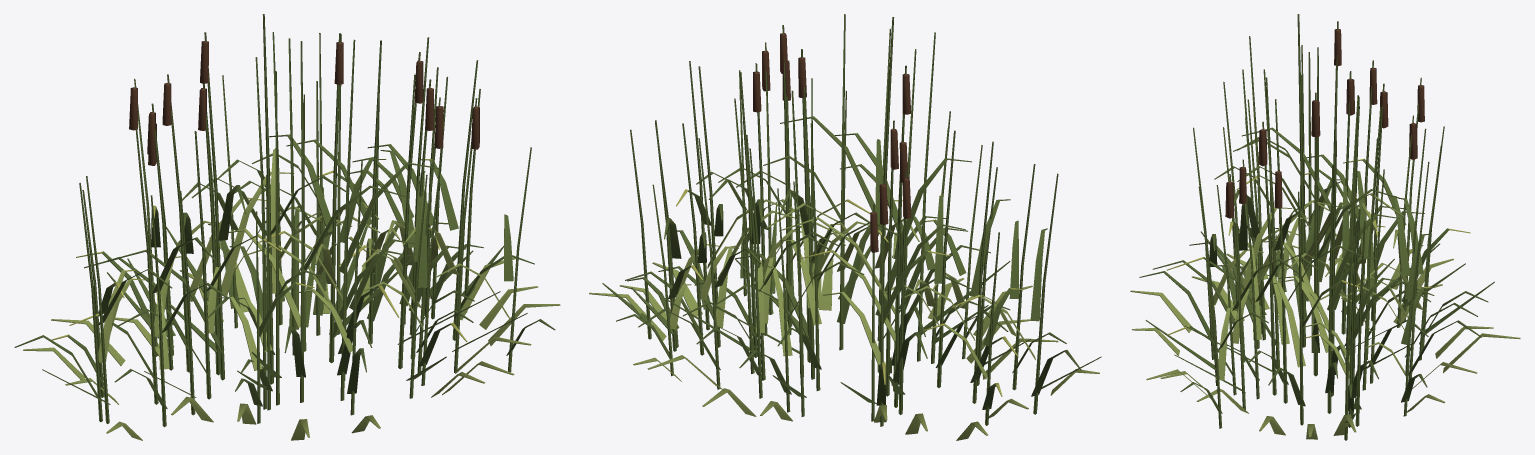
Rendered from foliage_reed_bed_a.glb.
3 renders of one model, left to right at view 1: azimuth 30°, elevation 25°; view 2: azimuth 150°, elevation 25°; view 3: azimuth 270°, elevation 25°, orthographic. The views are drawn at different scales.
Visible parts, largest first — view 1: foliage_reed_bed_a_LOD0_reeds, foliage_reed_bed_a_LOD1_reeds; view 2: foliage_reed_bed_a_LOD0_reeds, foliage_reed_bed_a_LOD1_reeds; view 3: foliage_reed_bed_a_LOD0_reeds, foliage_reed_bed_a_LOD1_reeds.
Boxes of the visible parts, left/top/right/bottom form: foliage_reed_bed_a_LOD0_reeds: left=14, top=14, right=560, bottom=440; foliage_reed_bed_a_LOD1_reeds: left=42, top=33, right=527, bottom=423; foliage_reed_bed_a_LOD0_reeds: left=589, top=14, right=1099, bottom=440; foliage_reed_bed_a_LOD1_reeds: left=602, top=25, right=1101, bottom=421; foliage_reed_bed_a_LOD0_reeds: left=1130, top=14, right=1520, bottom=439; foliage_reed_bed_a_LOD1_reeds: left=1145, top=36, right=1494, bottom=440.
Bounding box in the file's own units: 2.18 × 1.53 × 1.64.
